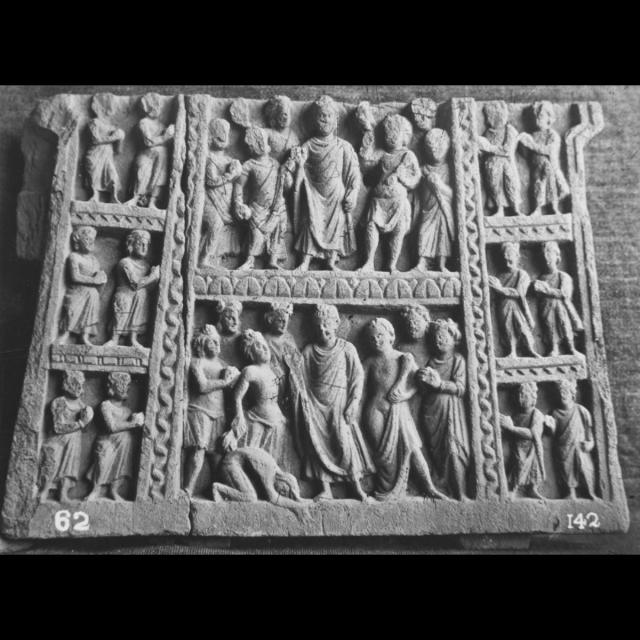buddha-standing: (300, 304, 374, 498), (294, 95, 362, 270)
